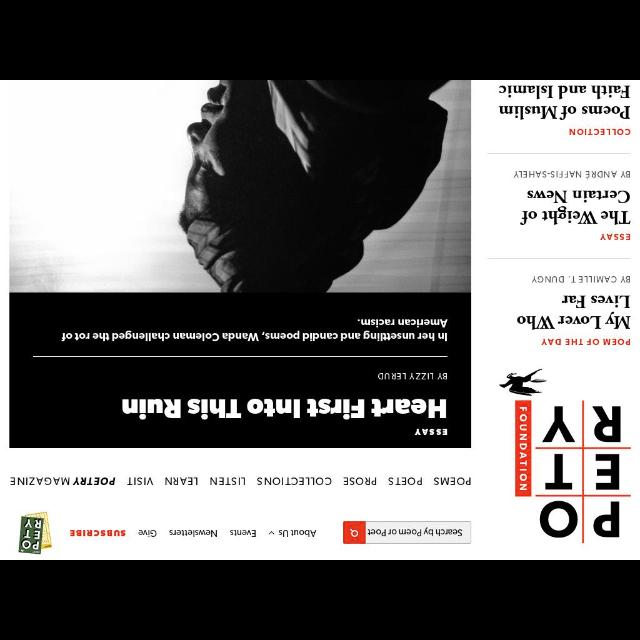icon: (348, 530, 359, 538), (266, 528, 276, 536)
image: (11, 81, 470, 293), (498, 363, 630, 549), (17, 504, 55, 558)
input: (344, 521, 471, 543)
text: (59, 316, 450, 342), (120, 396, 450, 422), (497, 84, 631, 122), (514, 291, 632, 329), (522, 189, 632, 227), (530, 272, 634, 286), (368, 526, 462, 538), (7, 476, 115, 486), (536, 337, 632, 347), (511, 170, 631, 178), (65, 530, 128, 542), (258, 476, 332, 486), (377, 372, 448, 382), (209, 474, 247, 488), (432, 477, 476, 488), (161, 474, 199, 486), (344, 476, 378, 488), (169, 530, 219, 538), (277, 529, 317, 539), (386, 476, 426, 486), (567, 130, 633, 136), (598, 233, 634, 243), (228, 528, 258, 538), (124, 476, 154, 486), (415, 428, 447, 436), (137, 528, 157, 538)
